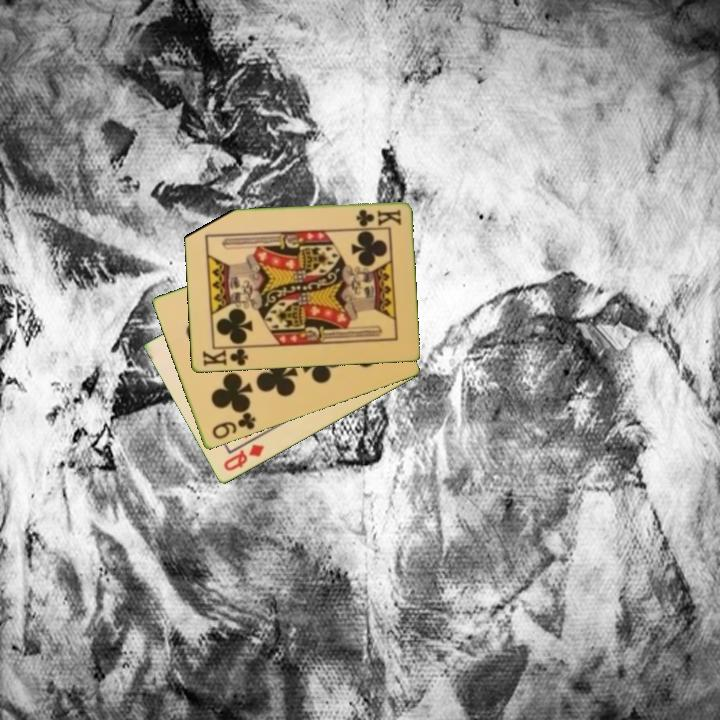9c: (208, 409, 258, 442)
Kc: (198, 344, 252, 369), (352, 206, 404, 229)
Qd: (219, 441, 267, 474)
